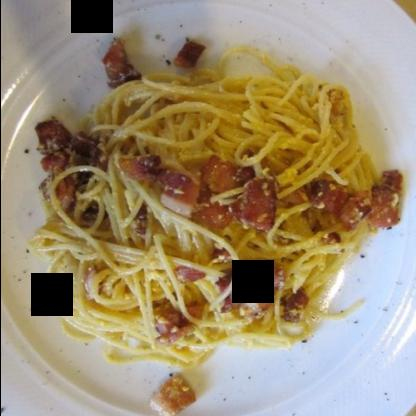pasta: (41, 62, 369, 352)
